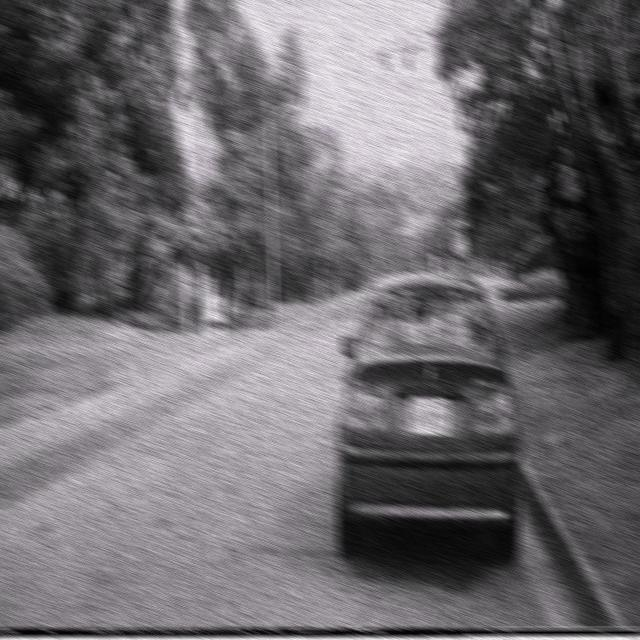stop: (452, 230, 469, 259)
